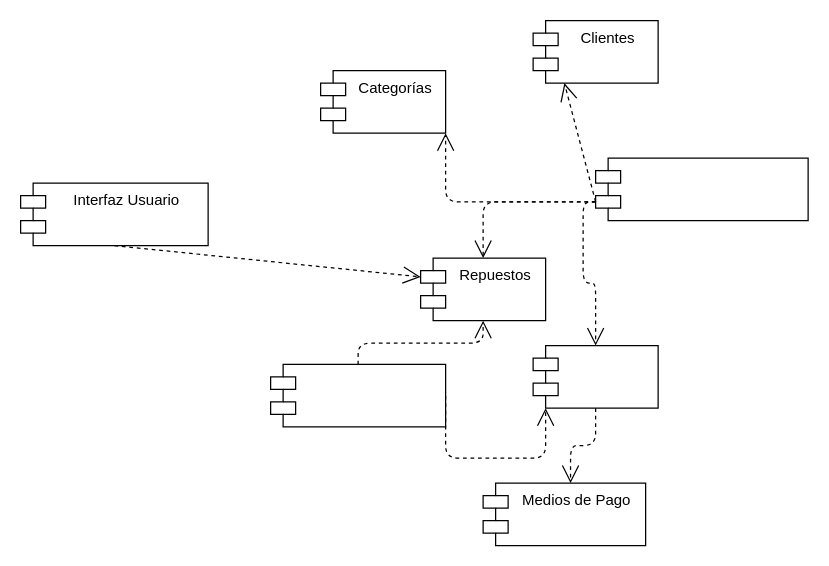
The diagram is 829 pixels wide and 566 high, and some of its shapes have lost their labels. The shapes that lost their labels are listed below. From the top down, each one's centre as x and y in pixels, then its label:
(701,189): Interfaz administrador
(357,395): Detalles Ventas
(595,376): Ventas
